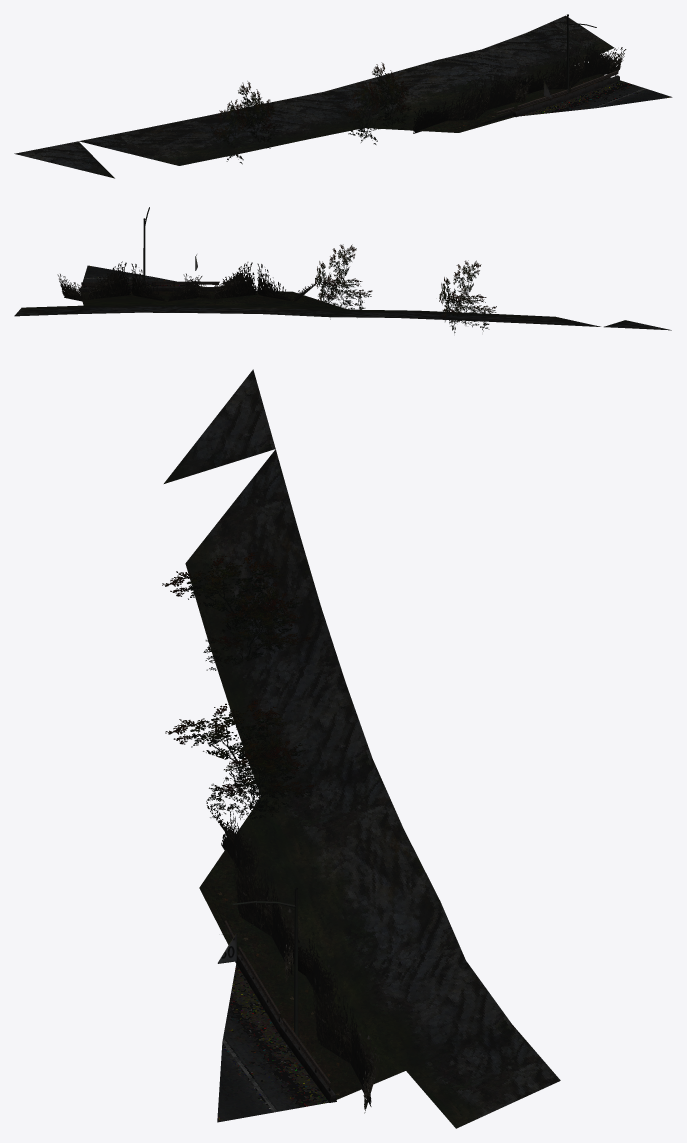
File: cell_13_-9.gltf
3 renders of one model, top to bottom at view 1: azimuth 30°, elevation 25°; view 2: azimuth 150°, elevation 25°; view 3: azimuth 270°, elevation 25°, orthographic. The views are drawn at different scales.
Parts seen in each view (by area): view 1: cell_13_-9; view 2: cell_13_-9; view 3: cell_13_-9.
Boxes of the visible parts, x1,y1,x2,y2 form: cell_13_-9: (14, 14, 672, 178); cell_13_-9: (14, 207, 671, 333); cell_13_-9: (162, 369, 560, 1128).
Bounding box in the file's own units: 90.16 × 15.79 × 28.27.
Materials: 12 (12 with a texture image).
